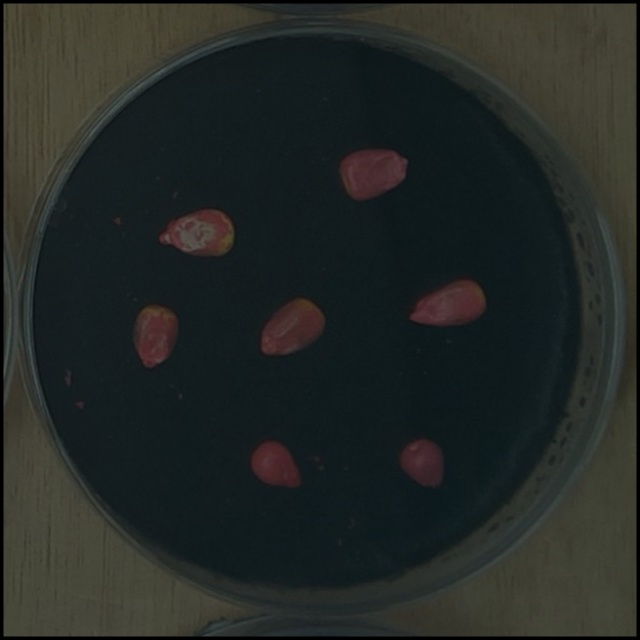Zea mays: (250, 291, 332, 365), (403, 271, 496, 333), (333, 142, 416, 209), (150, 204, 241, 265), (127, 297, 187, 378), (243, 433, 309, 496), (392, 430, 451, 498)
